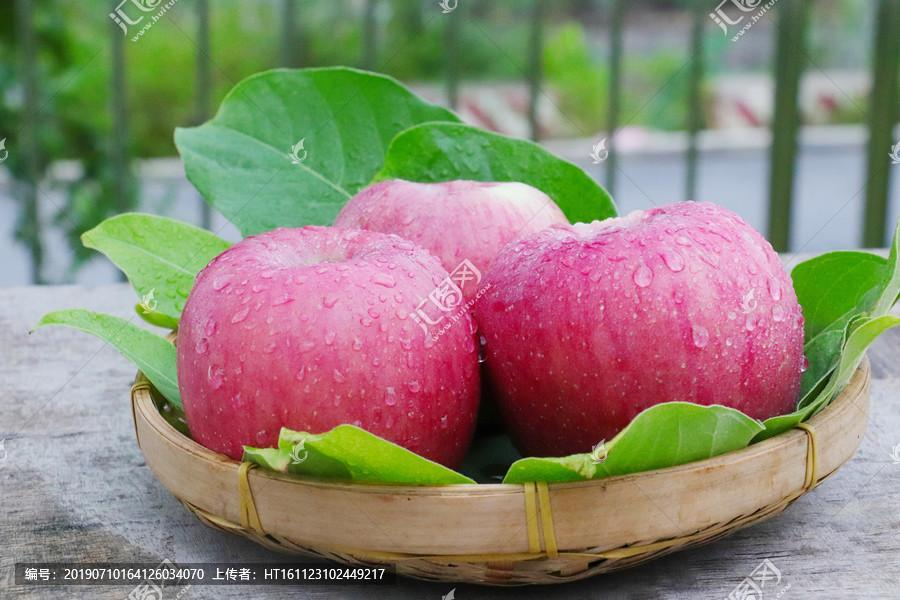apple: (164, 226, 488, 529), (469, 201, 807, 472)
